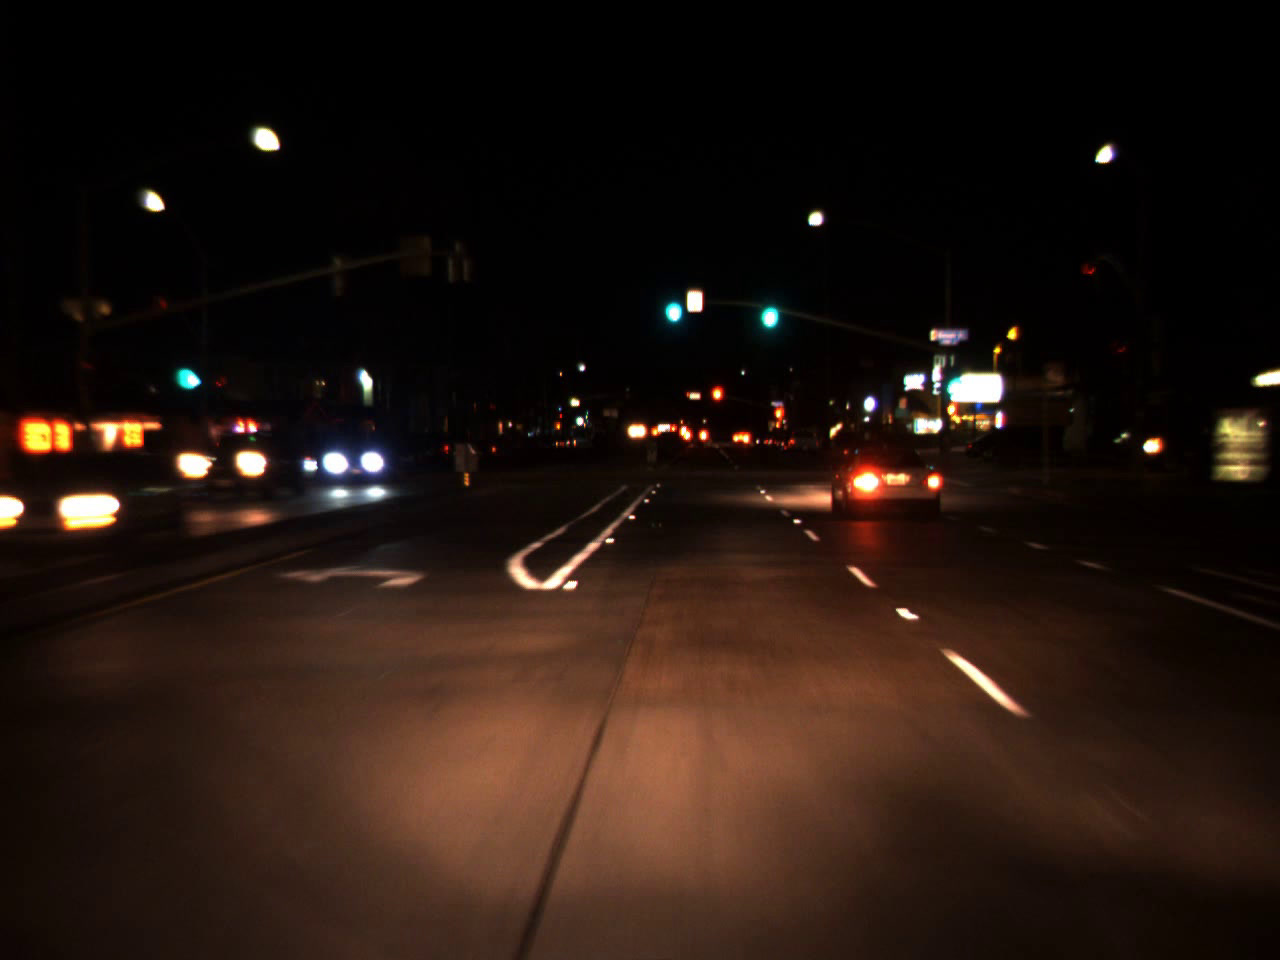go: (754, 279, 782, 336), (172, 343, 200, 397), (658, 278, 685, 329), (941, 363, 964, 399)
stop: (709, 382, 725, 419), (774, 405, 786, 437)
